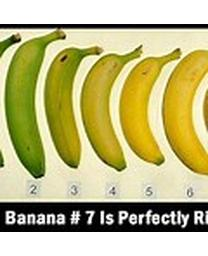banana: (6, 31, 206, 177)
